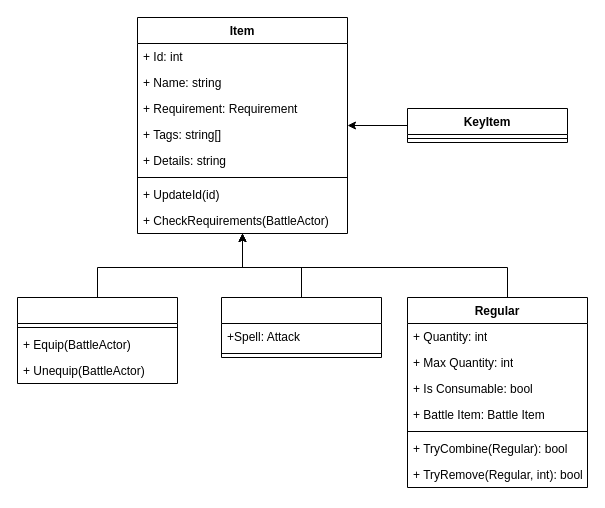
The diagram is 605 pixels wide and 508 high, and some of its shapes have lost their labels. The box of each missing label's shape, as (x1, y1, x2, y2) in pixels:
Equipment: (16, 296, 178, 384)
SpellScroll: (220, 296, 382, 358)
